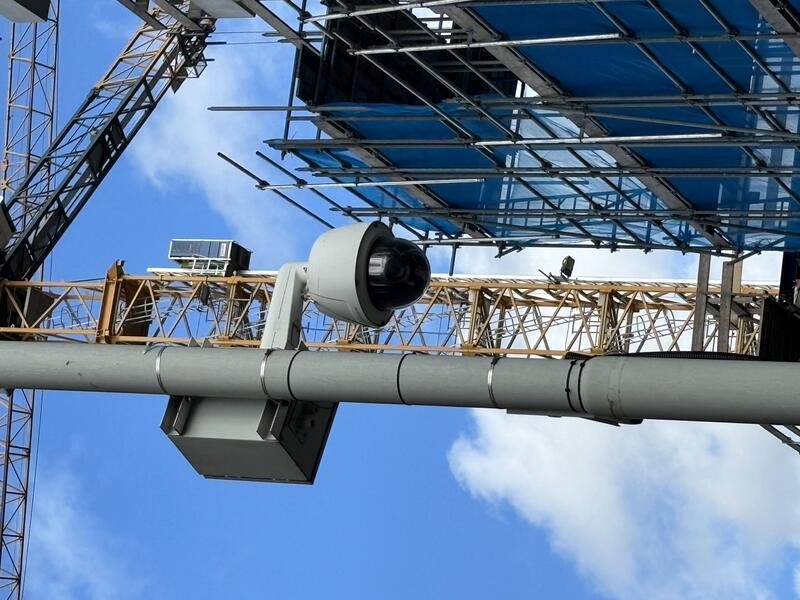dome: (274, 297, 382, 435)
